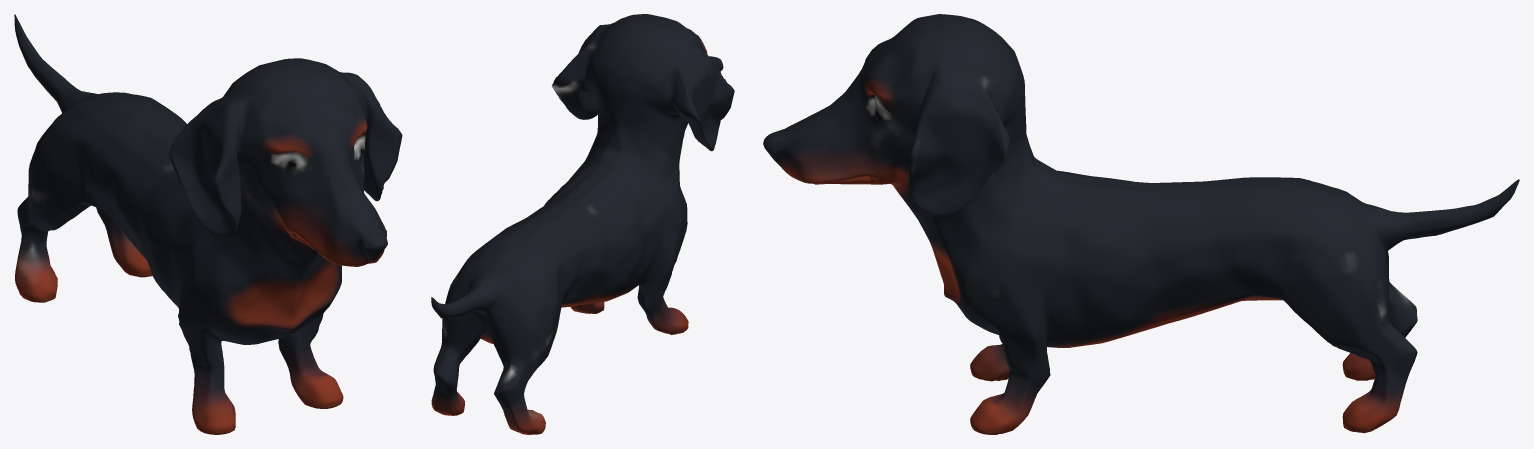
File: weenerDOG.glb
3 views of the same model, side by side, from view 1: azimuth 30°, elevation 25°; view 2: azimuth 150°, elevation 25°; view 3: azimuth 270°, elevation 25° (orthographic). The views are drawn at different scales.
Visible parts, largest first — view 1: model; view 2: model; view 3: model.
Boxes of the visible parts, x1,y1,x2,y2 form: model: (14, 14, 402, 434); model: (431, 14, 734, 434); model: (763, 14, 1519, 434).
Bounding box in the file's own units: 0.567 × 1.04 × 1.89.
